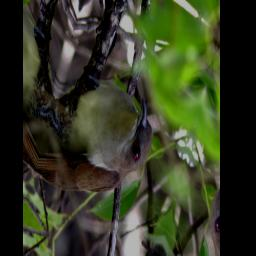Cuckoo: (34, 36, 161, 250)
